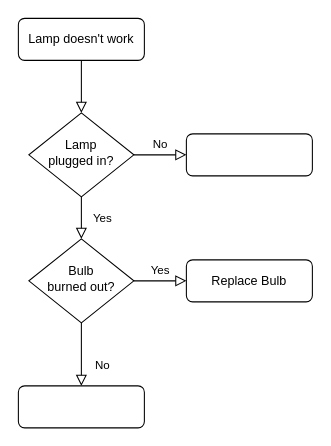
Image size: 331x446. Some labels were removed from this diagram. Each missing label, with the centre of its shape:
"aaa" belongs at (x=80, y=406).
"Plug in lamp" belongs at (x=248, y=154).
